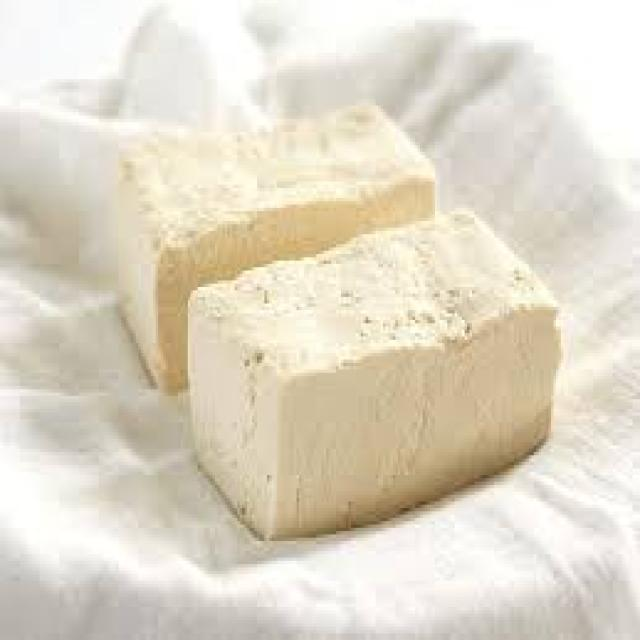tofu: (87, 98, 578, 544), (167, 219, 560, 542)
